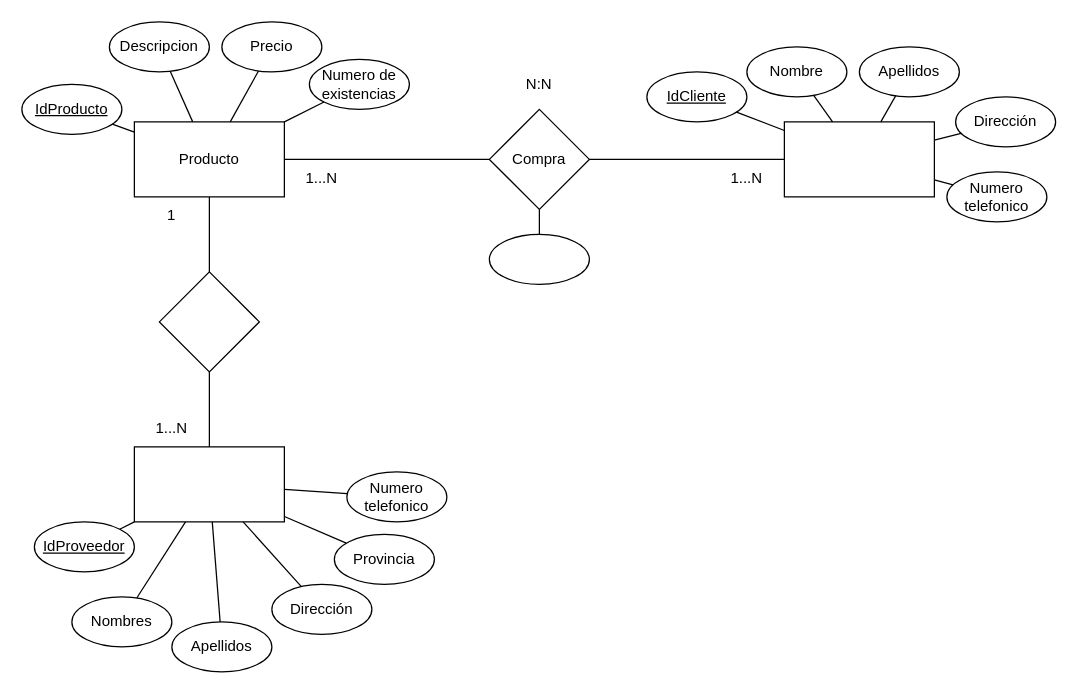
Some shapes in this 1078 by 694 pixel diagram are drawn without their labels. Here are the shapes that lost their labels. From the top down, the centre of each, then its label:
(x=858, y=159): Cliente
(x=538, y=258): Fecha de compra
(x=208, y=321): Suministra
(x=208, y=484): Proveedor
